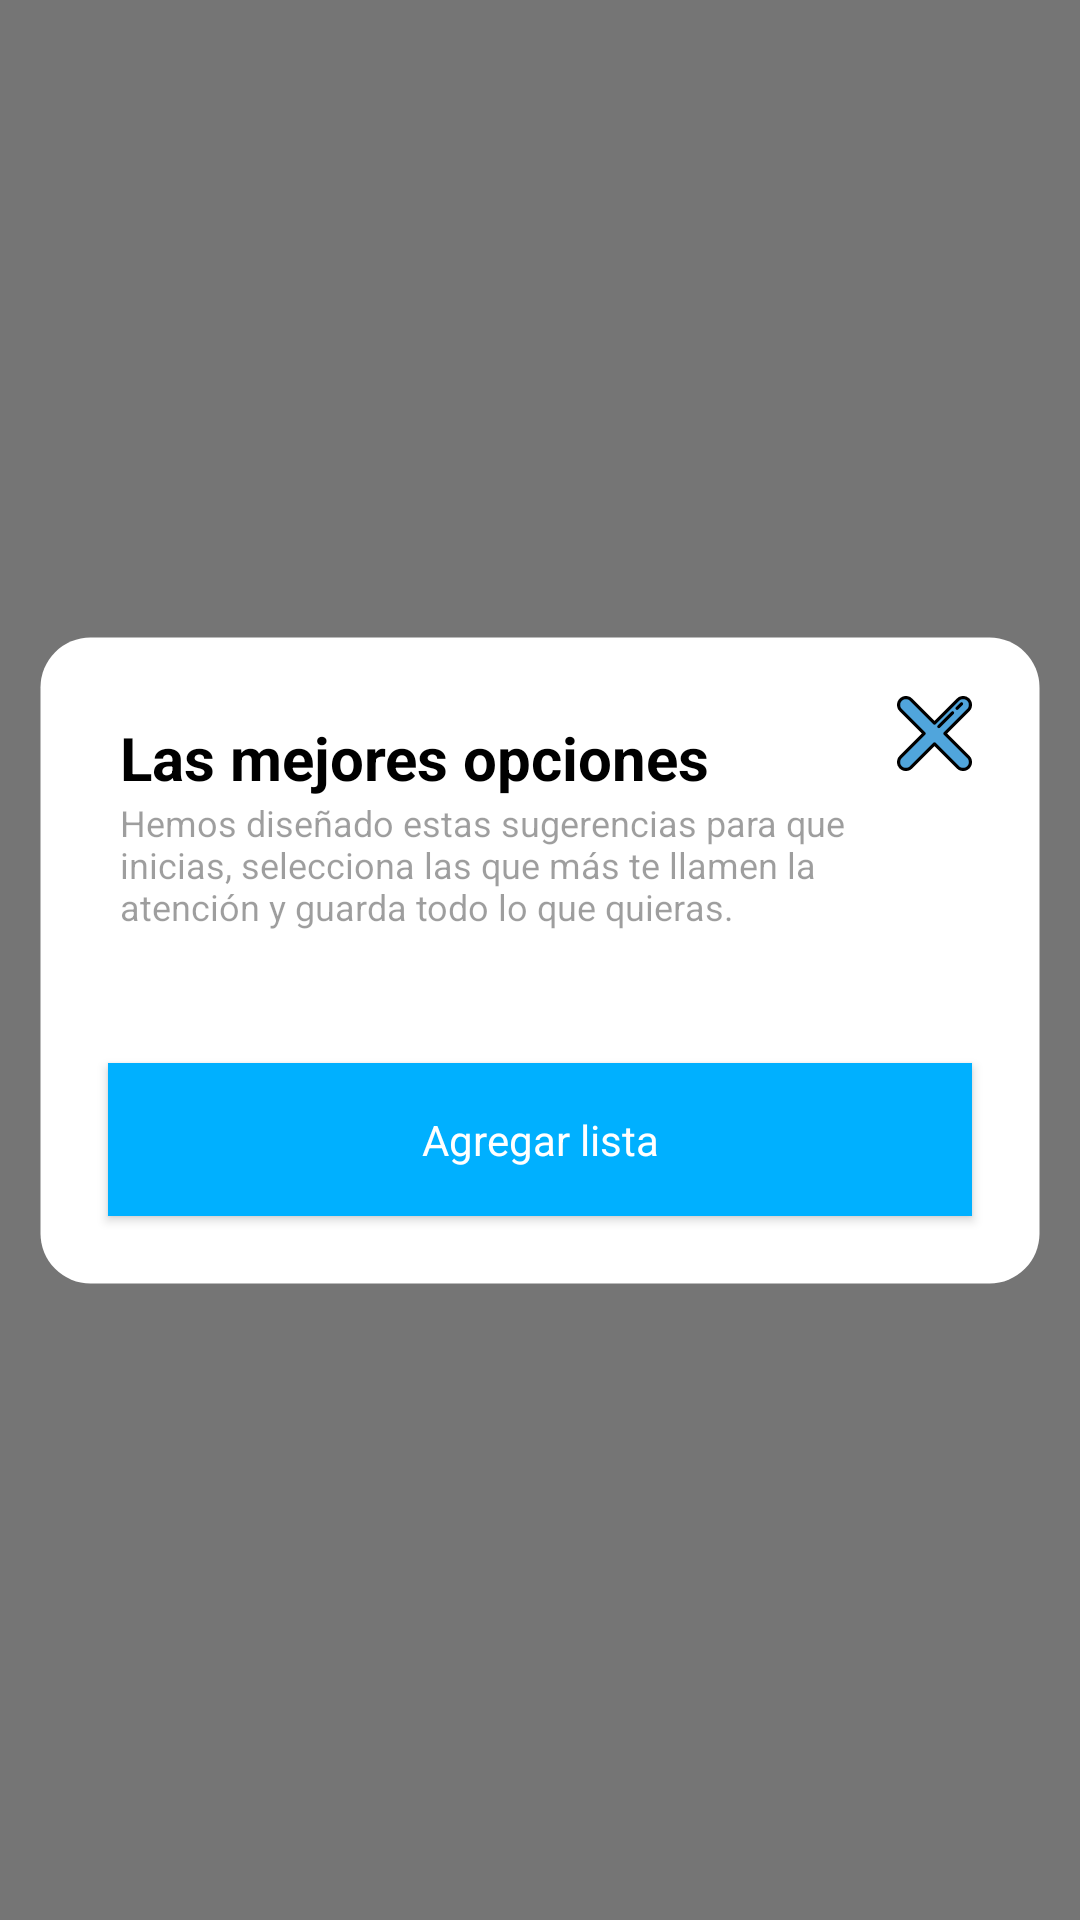

Icons on this 1080x1920 Android screen, each with the point to tap as point (x, y):
close menu: point (934, 733)
